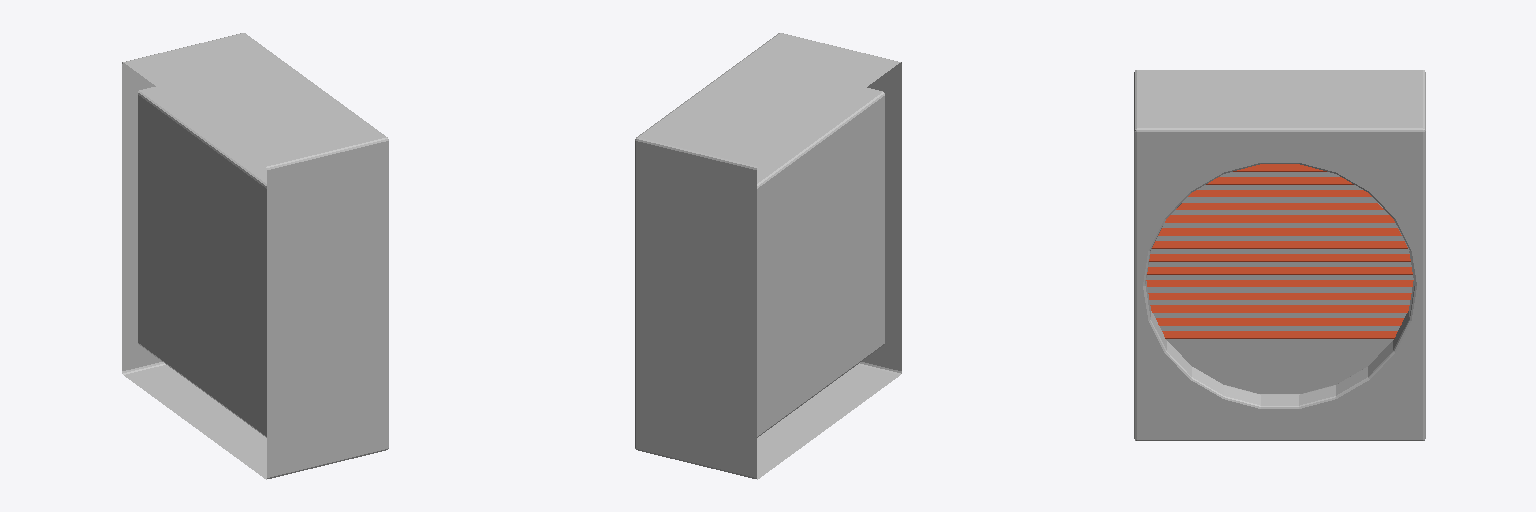
The model's file is Block_Bureau_01.obj.
The picture shows the model from 3 angles: view 1: azimuth 30°, elevation 25°; view 2: azimuth 150°, elevation 25°; view 3: azimuth 270°, elevation 25°; orthographic projection.
Visible parts, largest first — view 1: Boite_Bureau_01_Cube.004; view 2: Boite_Bureau_01_Cube.004; view 3: Boite_Bureau_01_Cube.004, Vitre_Boite_Bureau_01_Cube.005.
Boxes of the visible parts, x1,y1,x2,y2 form: Boite_Bureau_01_Cube.004: [122, 33, 388, 479]; Boite_Bureau_01_Cube.004: [635, 33, 901, 479]; Boite_Bureau_01_Cube.004: [1134, 70, 1425, 440]; Vitre_Boite_Bureau_01_Cube.005: [1146, 164, 1413, 393].
Size of the model in its own units: 2 by 4.87 by 4.11.